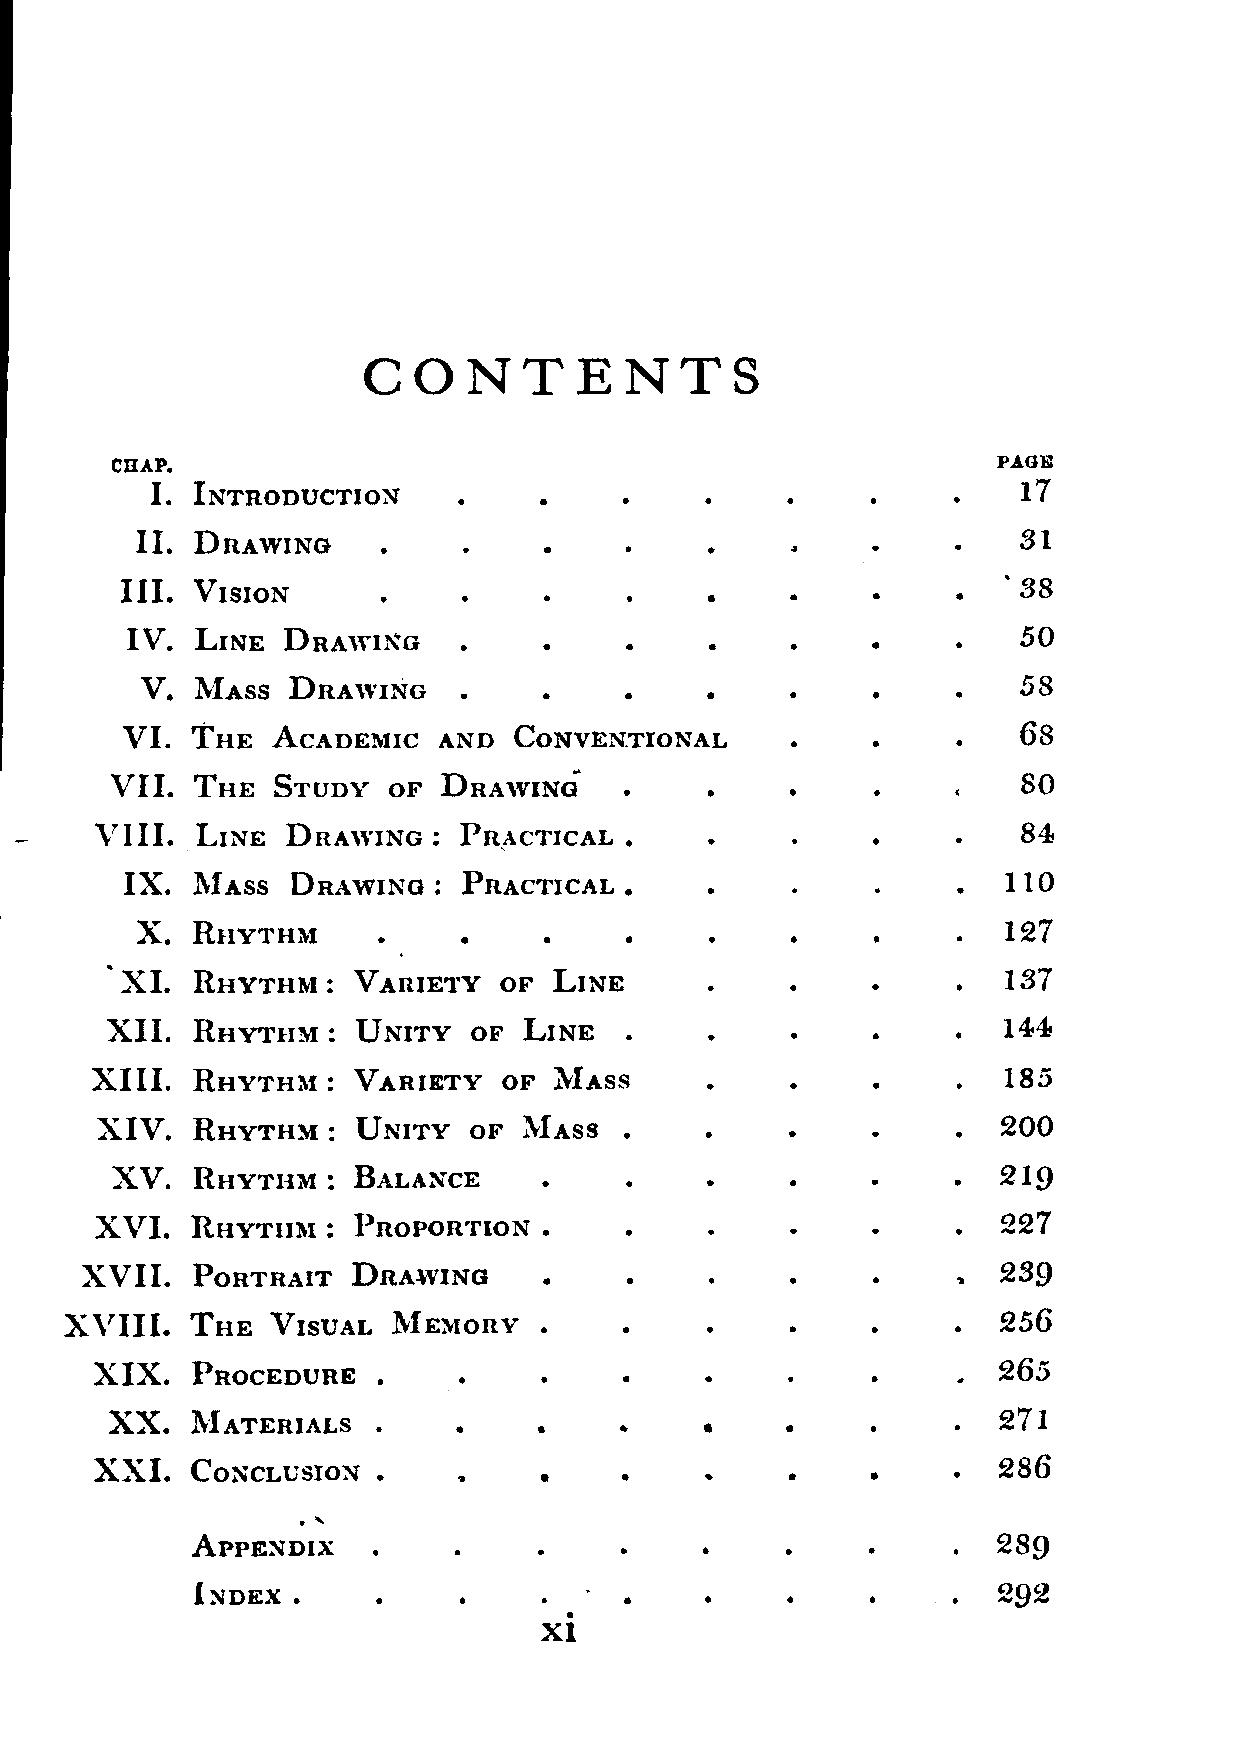TOC_chapter: (89, 815, 617, 852), (121, 721, 735, 752), (89, 1062, 632, 1092), (121, 867, 615, 900), (93, 1111, 607, 1142), (118, 966, 629, 997), (99, 1015, 599, 1045), (107, 770, 582, 800), (93, 1212, 533, 1241), (60, 1308, 521, 1337), (81, 1261, 497, 1291), (107, 1159, 483, 1192), (136, 670, 425, 702), (87, 1355, 360, 1389), (94, 1453, 364, 1487), (140, 476, 407, 510), (122, 624, 425, 654), (103, 1406, 353, 1436), (132, 523, 335, 557), (117, 573, 289, 605), (191, 1529, 335, 1565), (133, 917, 313, 943), (191, 1573, 283, 1610)
TOC_pagenumber: (994, 1529, 1053, 1563), (998, 1161, 1057, 1193), (994, 1257, 1053, 1290), (996, 1304, 1056, 1334), (1000, 1013, 1057, 1043), (997, 1108, 1057, 1137), (1002, 867, 1057, 898), (994, 1451, 1053, 1479), (994, 1580, 1052, 1608), (998, 1206, 1049, 1237), (996, 1354, 1053, 1381), (996, 1402, 1048, 1432), (1001, 917, 1053, 943), (1002, 964, 1052, 992), (1015, 672, 1057, 705), (1019, 519, 1057, 554), (1002, 1063, 1052, 1090), (1019, 714, 1057, 747), (1017, 621, 1057, 651), (1016, 819, 1056, 848), (1017, 572, 1055, 603), (1017, 772, 1053, 798), (1019, 476, 1052, 501)
chapter: (360, 353, 764, 399)
content_pagenumber: (539, 1610, 581, 1647)
